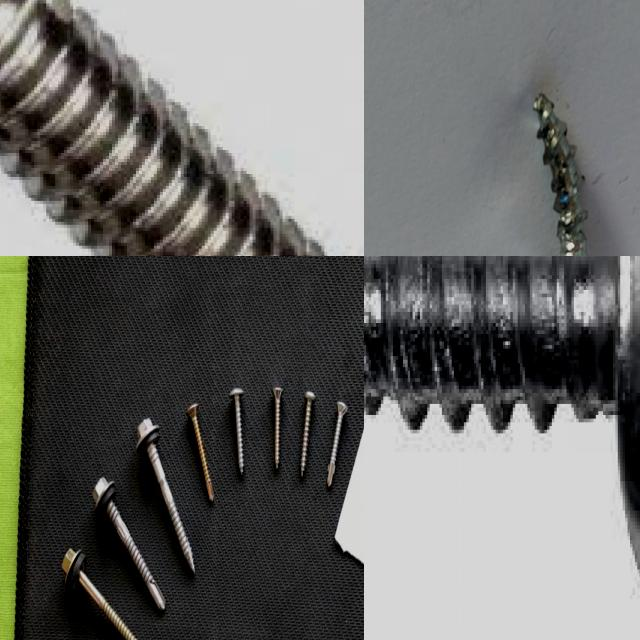Screw: (364, 256, 640, 581), (0, 0, 330, 256), (92, 477, 165, 611), (136, 417, 195, 572), (533, 93, 588, 256), (61, 547, 138, 640), (187, 404, 213, 502), (327, 400, 348, 486), (229, 386, 244, 474), (301, 390, 315, 476), (273, 386, 283, 469)
